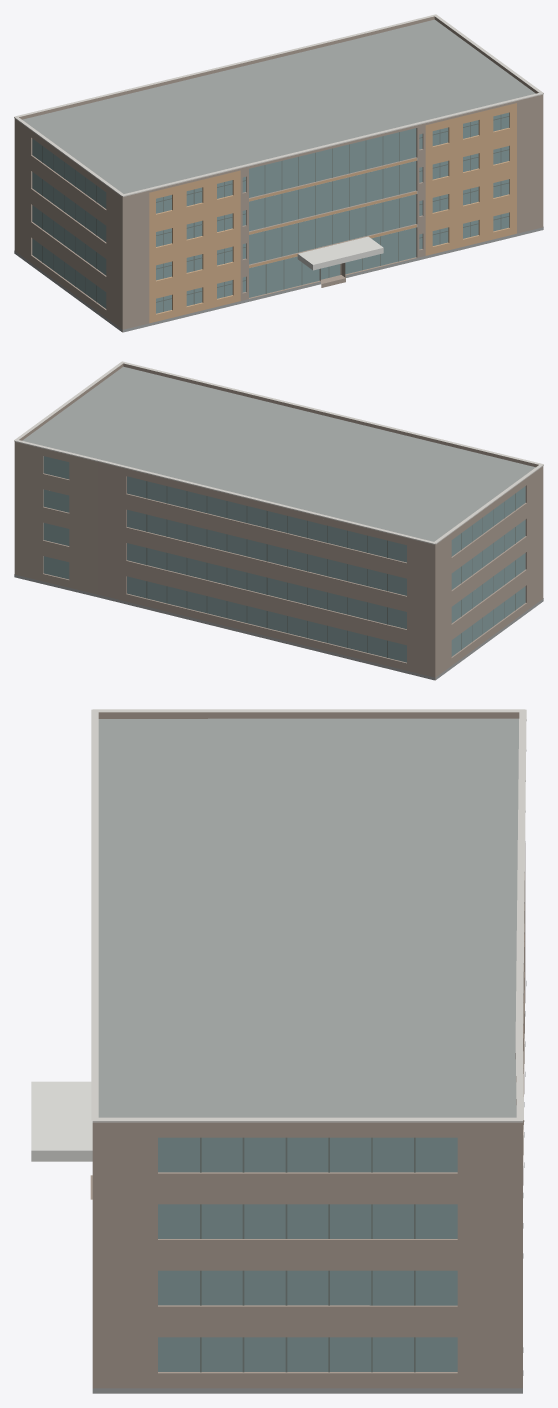
The picture shows the model from 3 angles, top to bottom: view 1: azimuth 30°, elevation 25°; view 2: azimuth 150°, elevation 25°; view 3: azimuth 270°, elevation 25°; orthographic projection. The views are drawn at different scales.
Visible parts, largest first — view 1: b743648660__roof, b743648660__glass, b743648660__wall, b743648660__wall2, b743648660__parapet, b743648660__trim, b743648660__frame, b743648660__base, b743648660__canopy, b743648660__spandrel; view 2: b743648660__wall, b743648660__roof, b743648660__glass, b743648660__parapet, b743648660__trim, b743648660__base, b743648660__frame; view 3: b743648660__roof, b743648660__wall, b743648660__glass, b743648660__trim, b743648660__parapet, b743648660__canopy, b743648660__base, b743648660__frame.
Boxes of the visible parts, left/top/right/bottom form: b743648660__roof: left=22, top=19, right=535, bottom=226; b743648660__glass: left=32, top=112, right=509, bottom=313; b743648660__wall: left=14, top=96, right=543, bottom=332; b743648660__wall2: left=149, top=103, right=516, bottom=323; b743648660__parapet: left=14, top=16, right=543, bottom=198; b743648660__trim: left=14, top=14, right=543, bottom=196; b743648660__frame: left=42, top=115, right=509, bottom=311; b743648660__base: left=14, top=227, right=543, bottom=332; b743648660__canopy: left=297, top=236, right=383, bottom=270; b743648660__spandrel: left=249, top=158, right=416, bottom=298; b743648660__wall: left=14, top=444, right=543, bottom=680; b743648660__roof: left=22, top=366, right=535, bottom=541; b743648660__glass: left=43, top=456, right=525, bottom=662; b743648660__parapet: left=14, top=363, right=543, bottom=546; b743648660__trim: left=14, top=361, right=543, bottom=544; b743648660__base: left=14, top=574, right=543, bottom=680; b743648660__frame: left=146, top=481, right=515, bottom=657; b743648660__roof: left=98, top=718, right=518, bottom=1117; b743648660__wall: left=92, top=843, right=525, bottom=1388; b743648660__glass: left=158, top=1137, right=457, bottom=1371; b743648660__trim: left=91, top=709, right=526, bottom=1122; b743648660__parapet: left=92, top=712, right=522, bottom=1126; b743648660__canopy: left=31, top=1081, right=92, bottom=1161; b743648660__base: left=92, top=981, right=526, bottom=1393; b743648660__frame: left=200, top=1137, right=415, bottom=1372.
Bounding box in the file's own units: 47.7 × 15.15 × 24.25.
